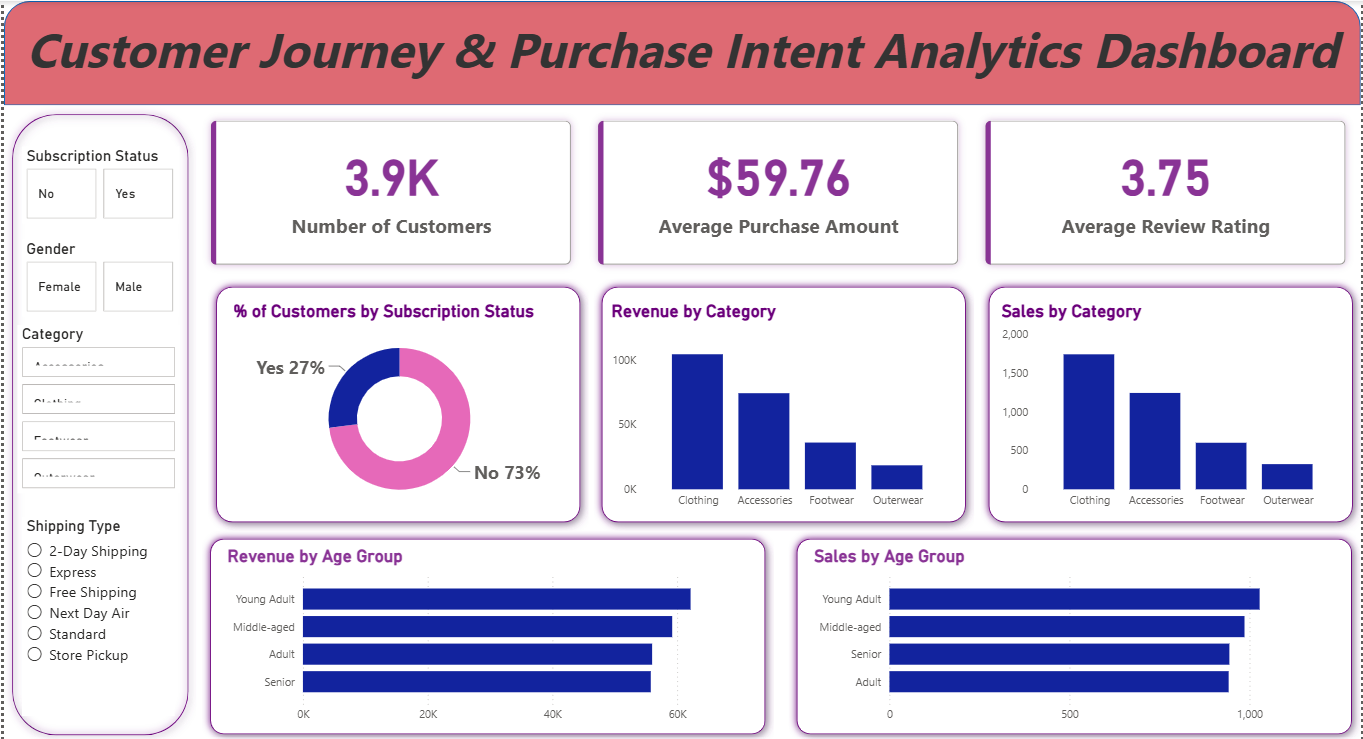

What the dashboard file says about the page in this screenshot:
{"tool":"powerbi","page":{"name":"Page 1","canvas":[1500,820],"ordinal":0},"visuals":[{"type":"cardVisual","fields":{"Data":["public customer.Number of Customers","public customer.Average Purchase Amount","public customer.Average Review Rating"]},"box":[212.9,115.3,1286.5,191.6],"z":2000},{"type":"shape","box":[218.3,585.6,631.7,234.2],"z":2500,"group":"g1"},{"type":"shape","box":[0,0,1499.4,115.3],"z":3000},{"type":"textbox","box":[0,12.4,1499.4,102.9],"z":4000},{"type":"shape","box":[225.4,307,420.5,278.6],"z":5000},{"type":"donutChart","title":"% of Customers by Subscription Status","fields":{"Category":["public customer.subscription_status"],"Y":["CountNonNull(public customer.customer_id)"]},"box":[248.4,331.8,376.2,237.8],"z":6000},{"type":"shape","box":[1078.9,307,420.5,278.6],"z":7000},{"type":"shape","box":[652.1,307,420.5,278.6],"z":8000},{"type":"clusteredColumnChart","title":"Revenue by Category","fields":{"Category":["public customer.category"],"Y":["Sum(public customer.purchase_amount)"]},"box":[667.2,331.8,385.1,237.8],"z":9000},{"type":"clusteredColumnChart","title":"Sales by Category","fields":{"Category":["public customer.category"],"Y":["CountNonNull(public customer.customer_id)"]},"box":[1096.6,331.8,385.1,237.8],"z":10000},{"type":"shape","box":[0,115.3,212.9,704.5],"z":11000},{"type":"advancedSlicerVisual","fields":{"Values":["public customer.subscription_status"]},"box":[19.5,161.5,173.9,85.2],"z":12000},{"type":"advancedSlicerVisual","fields":{"Values":["public customer.gender"]},"box":[19.5,264.4,173.9,85.2],"z":13000},{"type":"advancedSlicerVisual","fields":{"Values":["public customer.category"]},"box":[14.2,358.4,179.2,186.3],"z":14000},{"type":"listSlicer","fields":{"Values":["public customer.shipping_type"]},"box":[19.5,569.6,168.6,220],"z":15000},{"type":"shape","box":[867.7,585.6,631.7,234.2],"z":16000},{"type":"clusteredBarChart","title":"Sales by Age Group","fields":{"Category":["public customer.age_group"],"Y":["CountNonNull(public customer.customer_id)"]},"box":[890.8,601.5,585.6,204.1],"z":17000},{"type":"clusteredBarChart","title":"Revenue by Age Group","fields":{"Category":["public customer.age_group"],"Y":["Sum(public customer.purchase_amount)"]},"box":[241.4,601.6,585.6,204.1],"z":17500,"group":"g1"},{"type":"group","id":"g1","title":"Group 1","box":[218.3,585.6,631.7,234.2],"z":17501}]}

Visuals, with their boxes in screenshot pixels (x1, y1, x2, y2), scaled from the page's 1500x820 canvas onto the 1363x739 screenshot:
cardVisual - public customer.Number of Customers x public customer.Average Purchase Amount: x1=193 y1=104 x2=1362 y2=277
shape: x1=198 y1=528 x2=772 y2=738
shape: x1=0 y1=0 x2=1362 y2=104
textbox: x1=0 y1=11 x2=1362 y2=104
shape: x1=205 y1=277 x2=587 y2=528
"% of Customers by Subscription Status" donutChart: x1=226 y1=299 x2=568 y2=513
shape: x1=980 y1=277 x2=1362 y2=528
shape: x1=593 y1=277 x2=975 y2=528
"Revenue by Category" clusteredColumnChart: x1=606 y1=299 x2=956 y2=513
"Sales by Category" clusteredColumnChart: x1=996 y1=299 x2=1346 y2=513
shape: x1=0 y1=104 x2=193 y2=738
advancedSlicerVisual - public customer.subscription_status: x1=18 y1=146 x2=176 y2=222
advancedSlicerVisual - public customer.gender: x1=18 y1=238 x2=176 y2=315
advancedSlicerVisual - public customer.category: x1=13 y1=323 x2=176 y2=491
listSlicer - public customer.shipping_type: x1=18 y1=513 x2=171 y2=712
shape: x1=788 y1=528 x2=1362 y2=738
"Sales by Age Group" clusteredBarChart: x1=809 y1=542 x2=1342 y2=726
"Revenue by Age Group" clusteredBarChart: x1=219 y1=542 x2=751 y2=726
"Group 1" group: x1=198 y1=528 x2=772 y2=738
